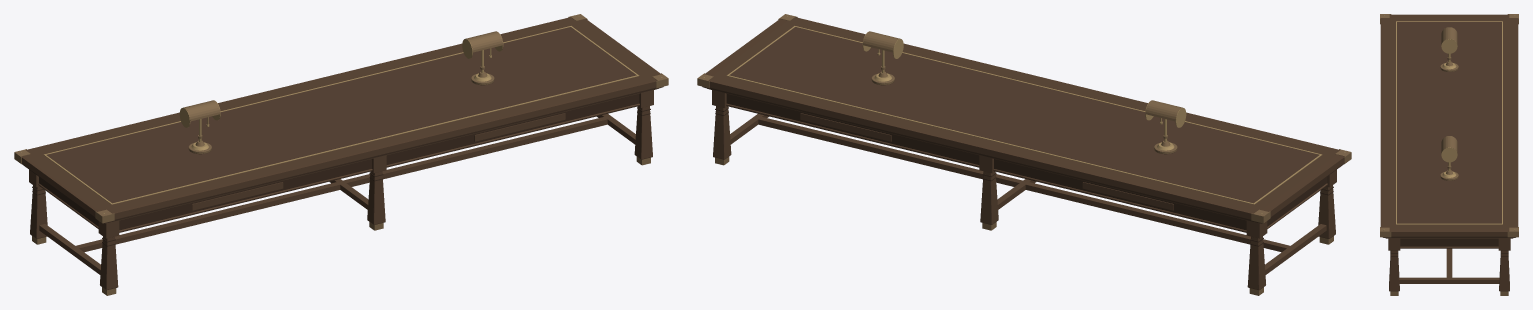
Rendered from reading_table.glb.
3 renders of one model, left to right at view 1: azimuth 30°, elevation 25°; view 2: azimuth 150°, elevation 25°; view 3: azimuth 270°, elevation 25°, orthographic. The views are drawn at different scales.
Visible parts, largest first — view 1: m16_reading_table; view 2: m16_reading_table; view 3: m16_reading_table.
Part boxes in pixels (left/top/right/bottom): m16_reading_table: left=14, top=14, right=668, bottom=295; m16_reading_table: left=697, top=14, right=1351, bottom=295; m16_reading_table: left=1380, top=14, right=1518, bottom=295.
Size of the model in its own units: 5.61 by 1.25 by 1.51.
